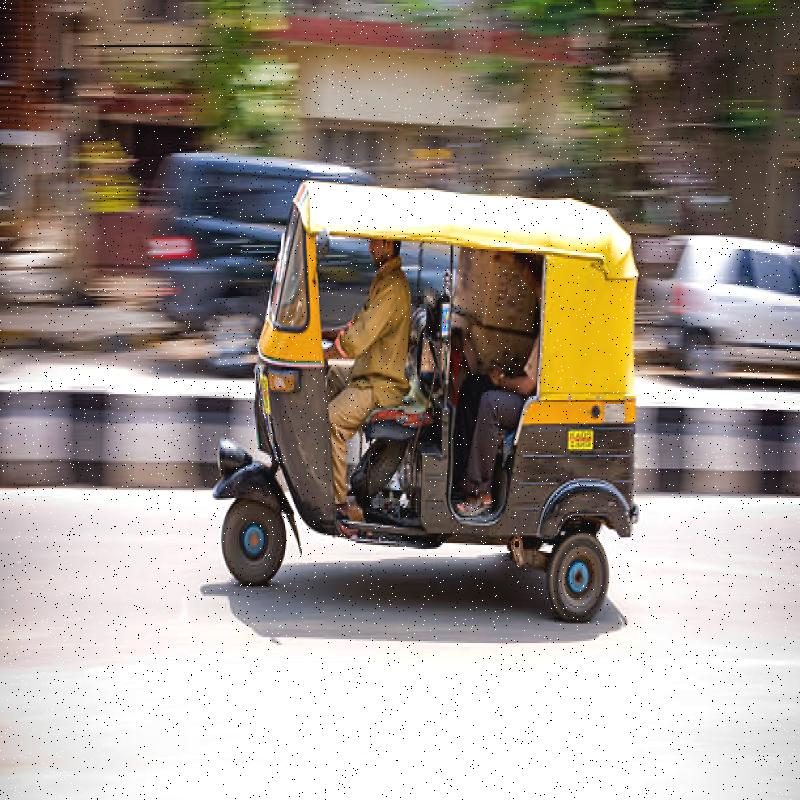auto: (220, 153, 665, 725)
